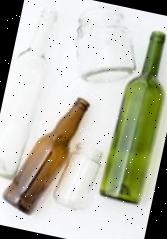glass: (98, 25, 167, 209), (3, 87, 93, 226), (63, 3, 148, 92), (51, 136, 106, 214)
